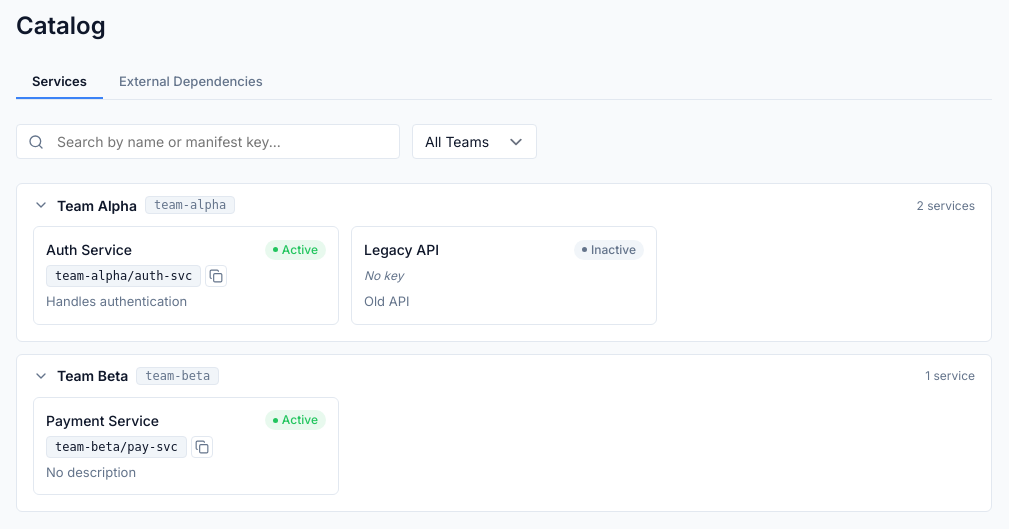
it: ServiceCatalog › should filter by search query on manifest_key
Expected: the text "Auth Service" is shown, [46,239,132,260]
In the field with placeholder "Search by name or manifest key...": (208, 142) [16,124,400,159], type "pay-svc"
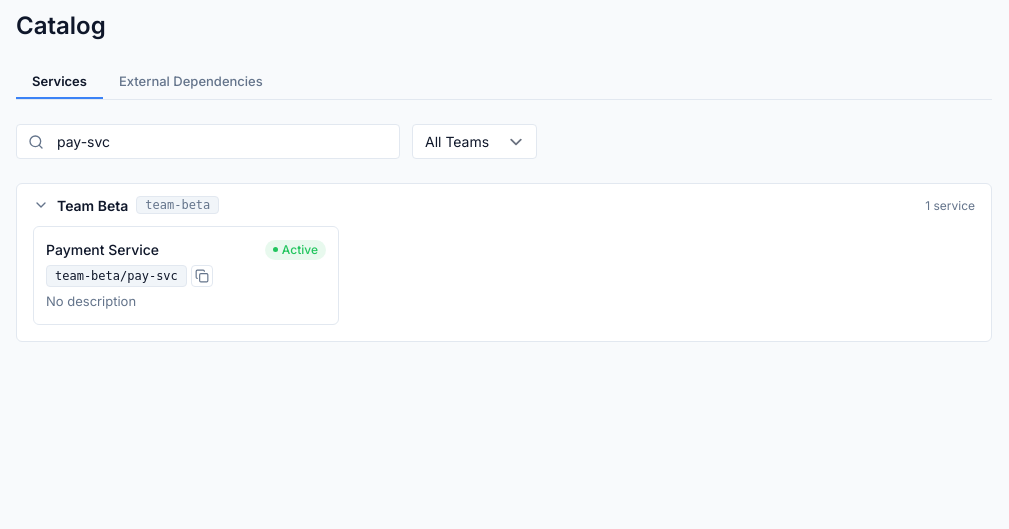
Expected: the text "Payment Service" is shown, [46,239,159,260]
Expected: the text "Auth Service" is gone
